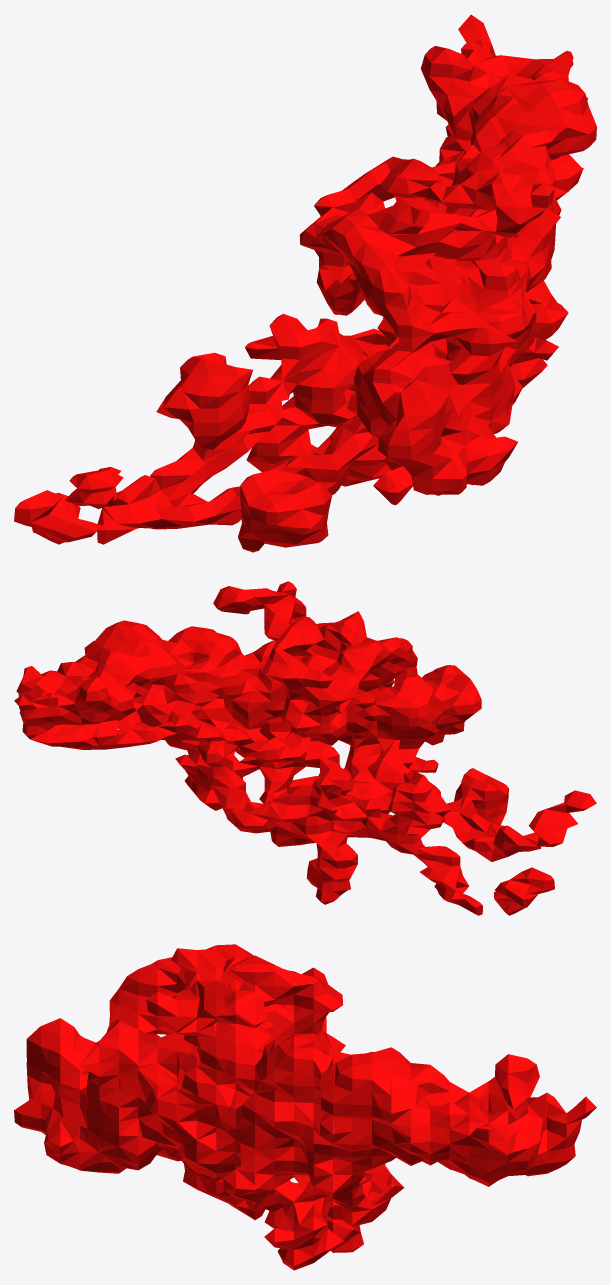
The model's file is Alpha_centractin_coarse.dae.
The picture shows the model from 3 angles, top to bottom: view 1: azimuth 30°, elevation 25°; view 2: azimuth 150°, elevation 25°; view 3: azimuth 270°, elevation 25°; orthographic projection. The views are drawn at different scales.
Visible parts, largest first — view 1: Alpha_centractin; view 2: Alpha_centractin; view 3: Alpha_centractin.
Part boxes in pixels (x1,y1,x2,y2): Alpha_centractin: (14, 14, 596, 552); Alpha_centractin: (14, 581, 596, 915); Alpha_centractin: (14, 944, 596, 1270).
Bounding box in the file's own units: 410 × 216 × 332.
